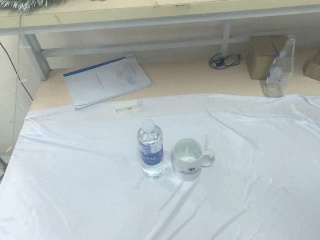bottle: (262, 36, 296, 98), (138, 119, 165, 179)
box: (246, 35, 280, 81)
cup: (172, 137, 215, 181)
